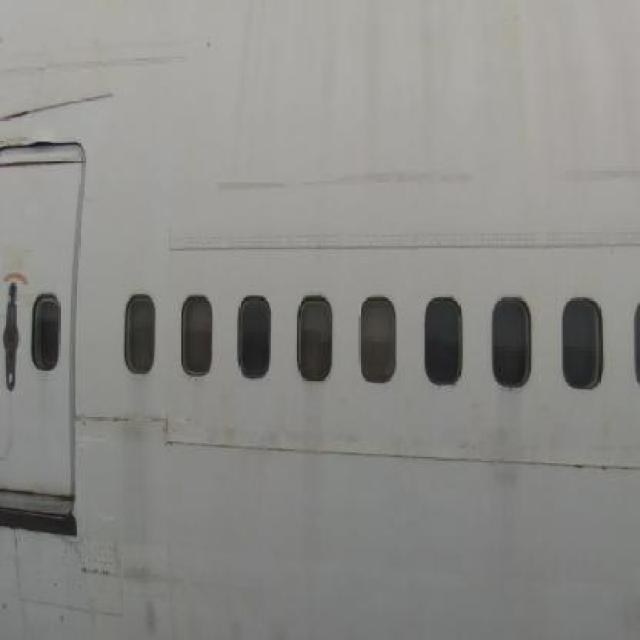Scartch: (213, 162, 489, 212), (121, 541, 193, 640), (557, 153, 640, 207)
